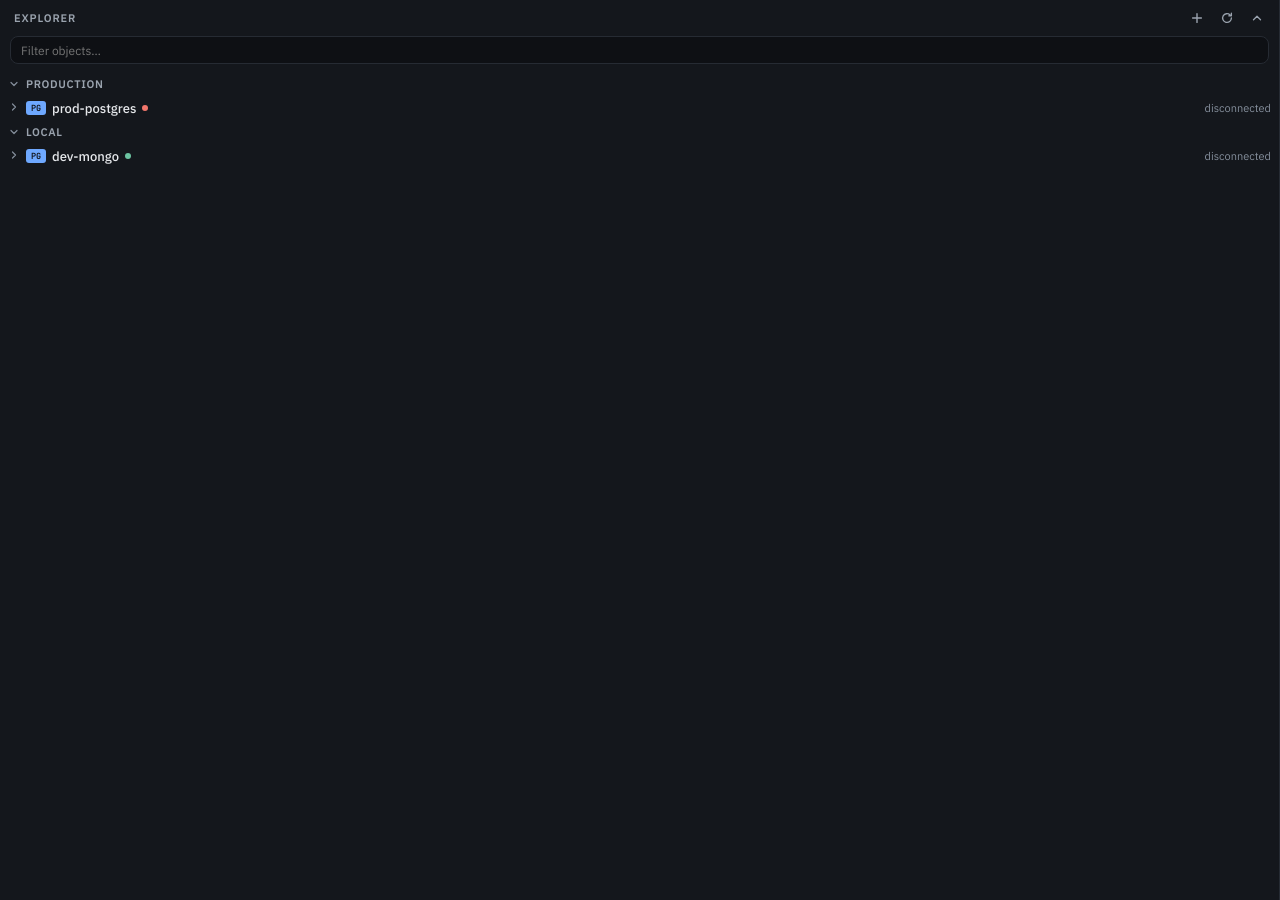
Test: organising connections › deletes after confirmation, removes it from the list and closes its tabs (spec: connection-management › Delete)
This screenshot has width=1280, height=900.
Right-click the list item "PG prod-postgres disconnected": x=94, y=108 [0, 96, 1279, 120]
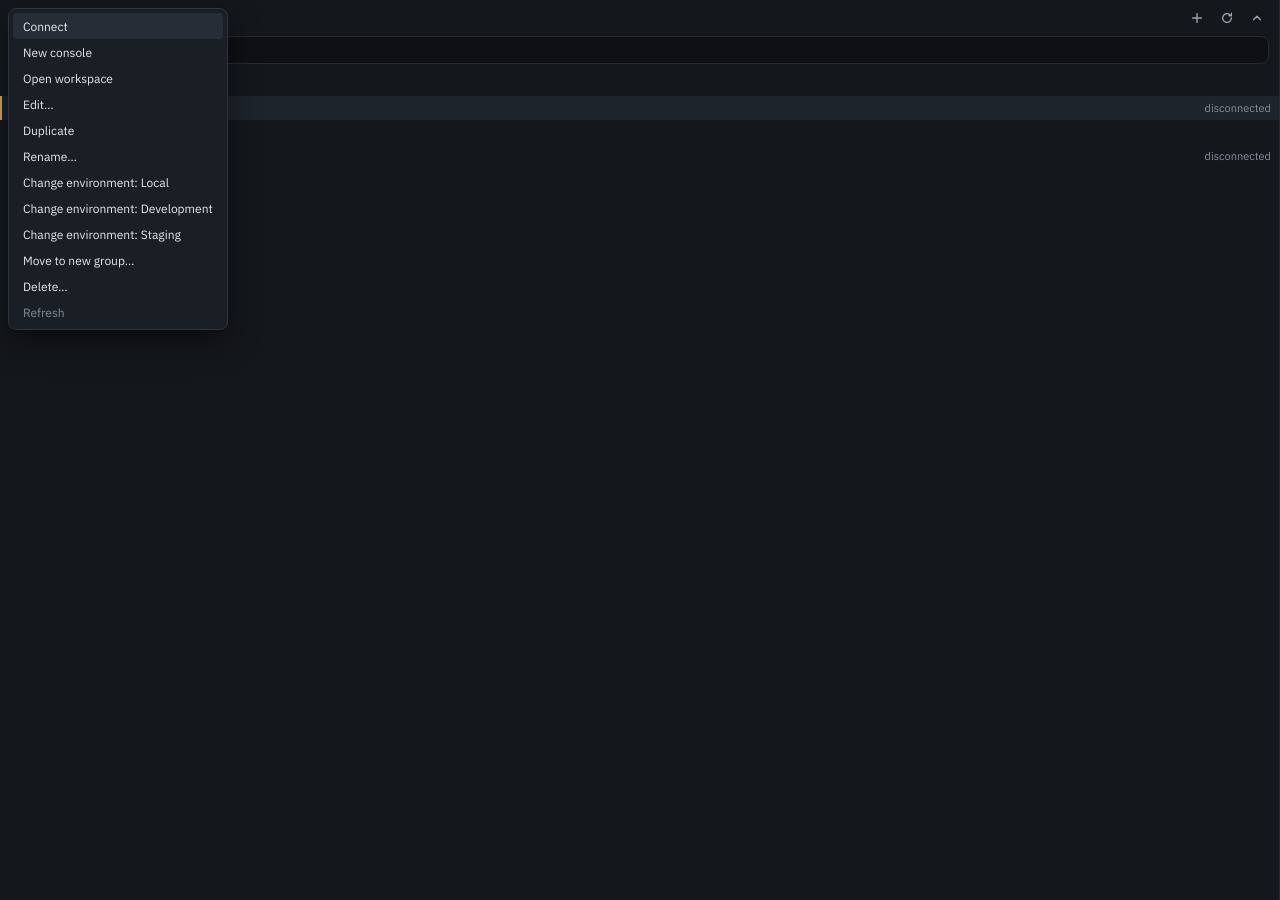
Click the menu item "Delete…": x=118, y=286 [13, 273, 223, 299]
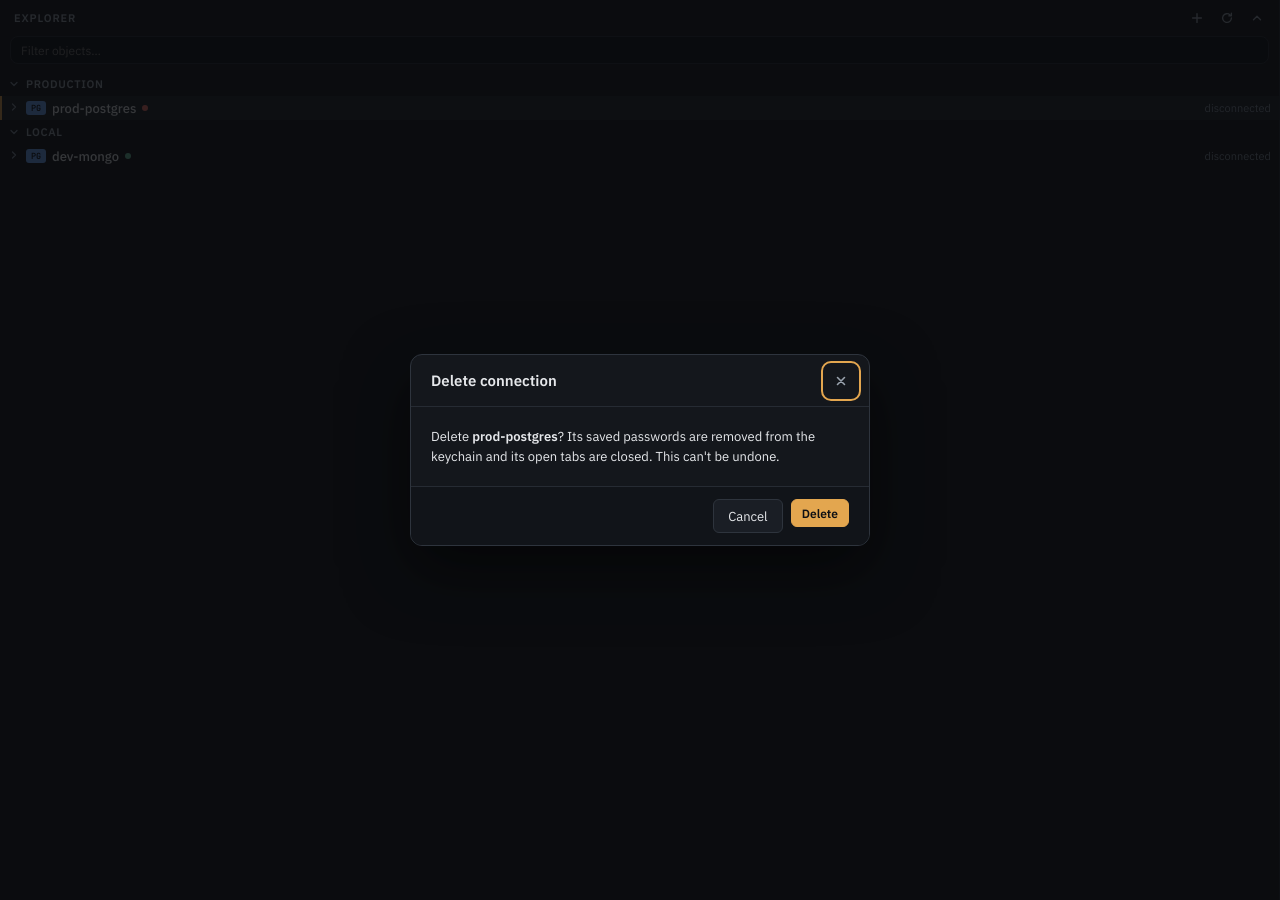
Click the button "Delete": x=820, y=513 [791, 499, 849, 527]
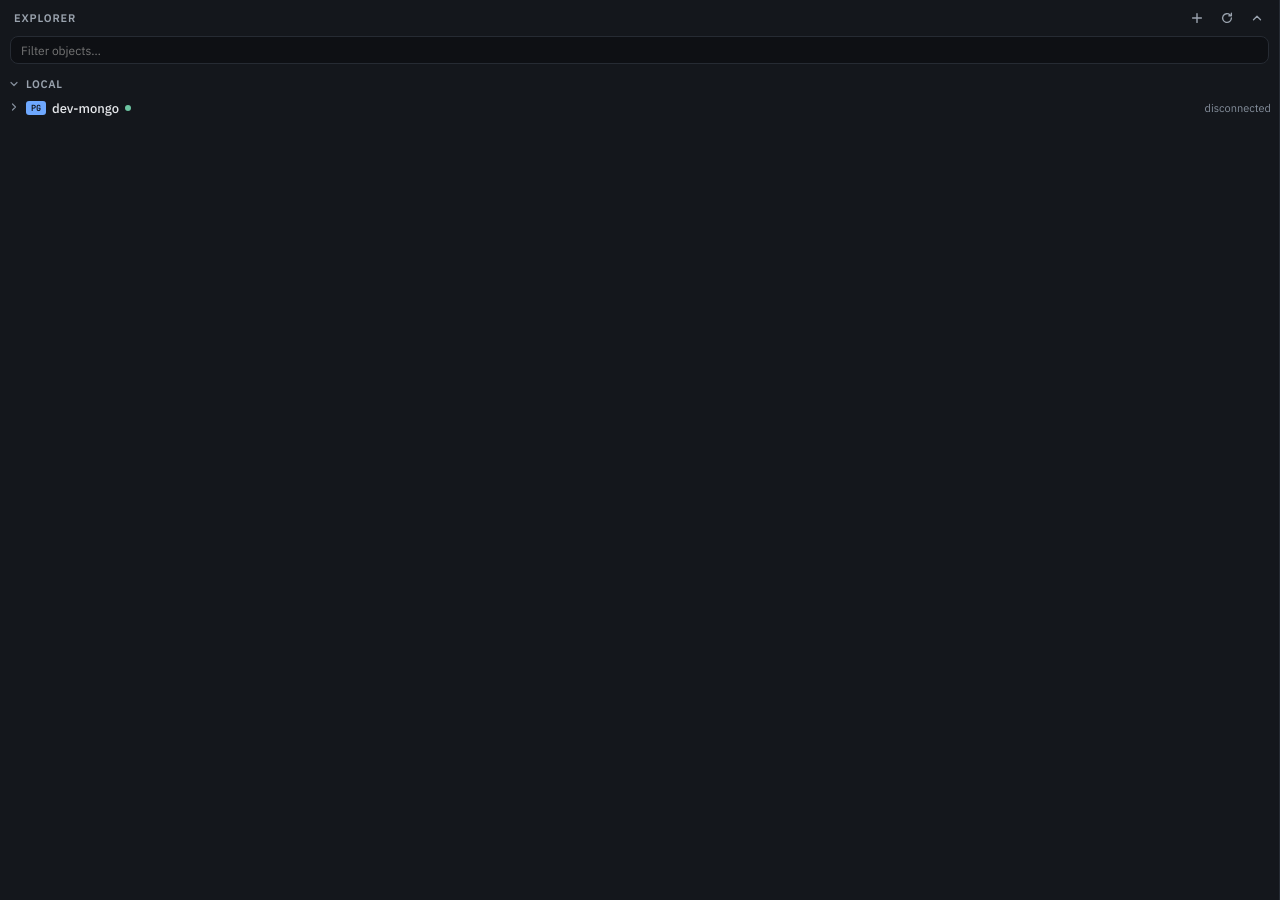
Expected: the text "prod-postgres" is gone
